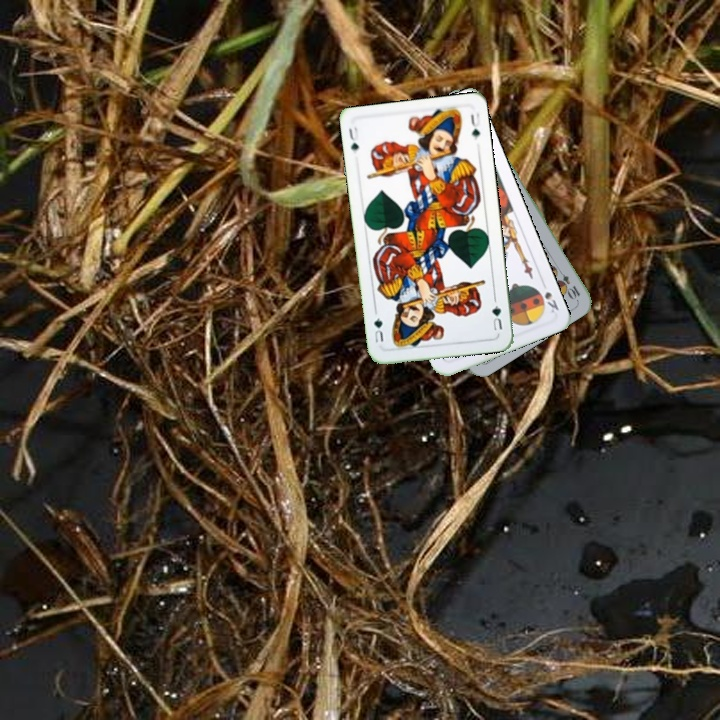E10: (552, 264, 583, 302)
GU: (488, 301, 505, 333), (345, 122, 362, 153)
SK: (533, 283, 561, 315)
